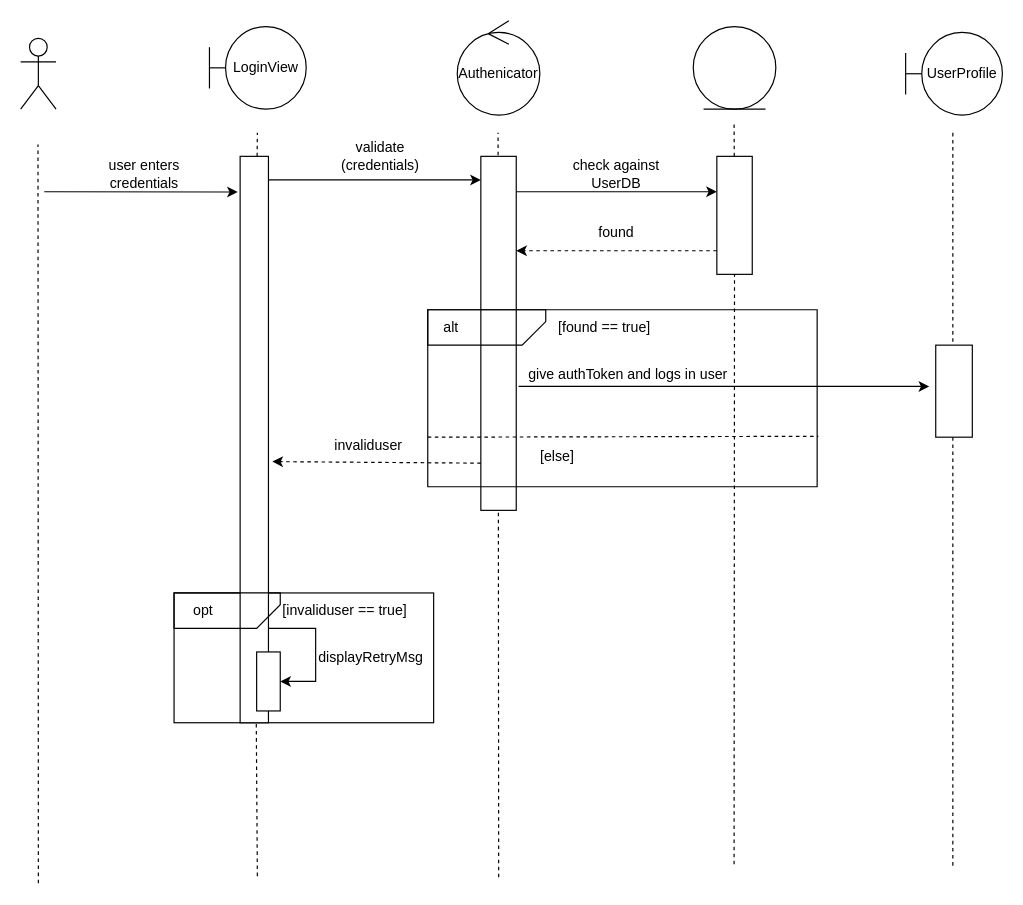
The diagram is 1023 pixels wide and 905 high, and some of its shapes have lost their labels. The centre of each missing label's shape, as x and y in pixels:
"Actor" belongs at (x=37, y=73).
"UserDB" belongs at (x=734, y=67).
